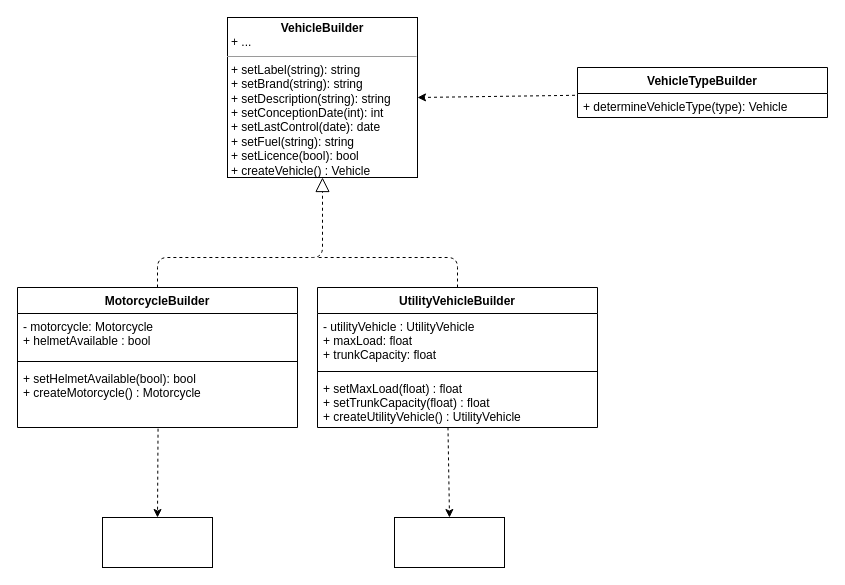
Image size: 845x585. Some labels were removed from this diagram. The shapes that lost their labels are listed below. From the top down, each one's centre as x and y in pixels, then its label:
At [157,542]: "Motorcycle".
At [449,542]: "UtilityVehicle".
